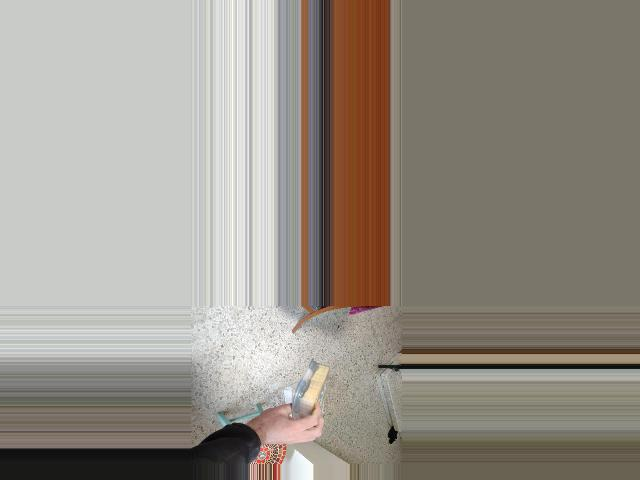cheese: (284, 355, 334, 432)
